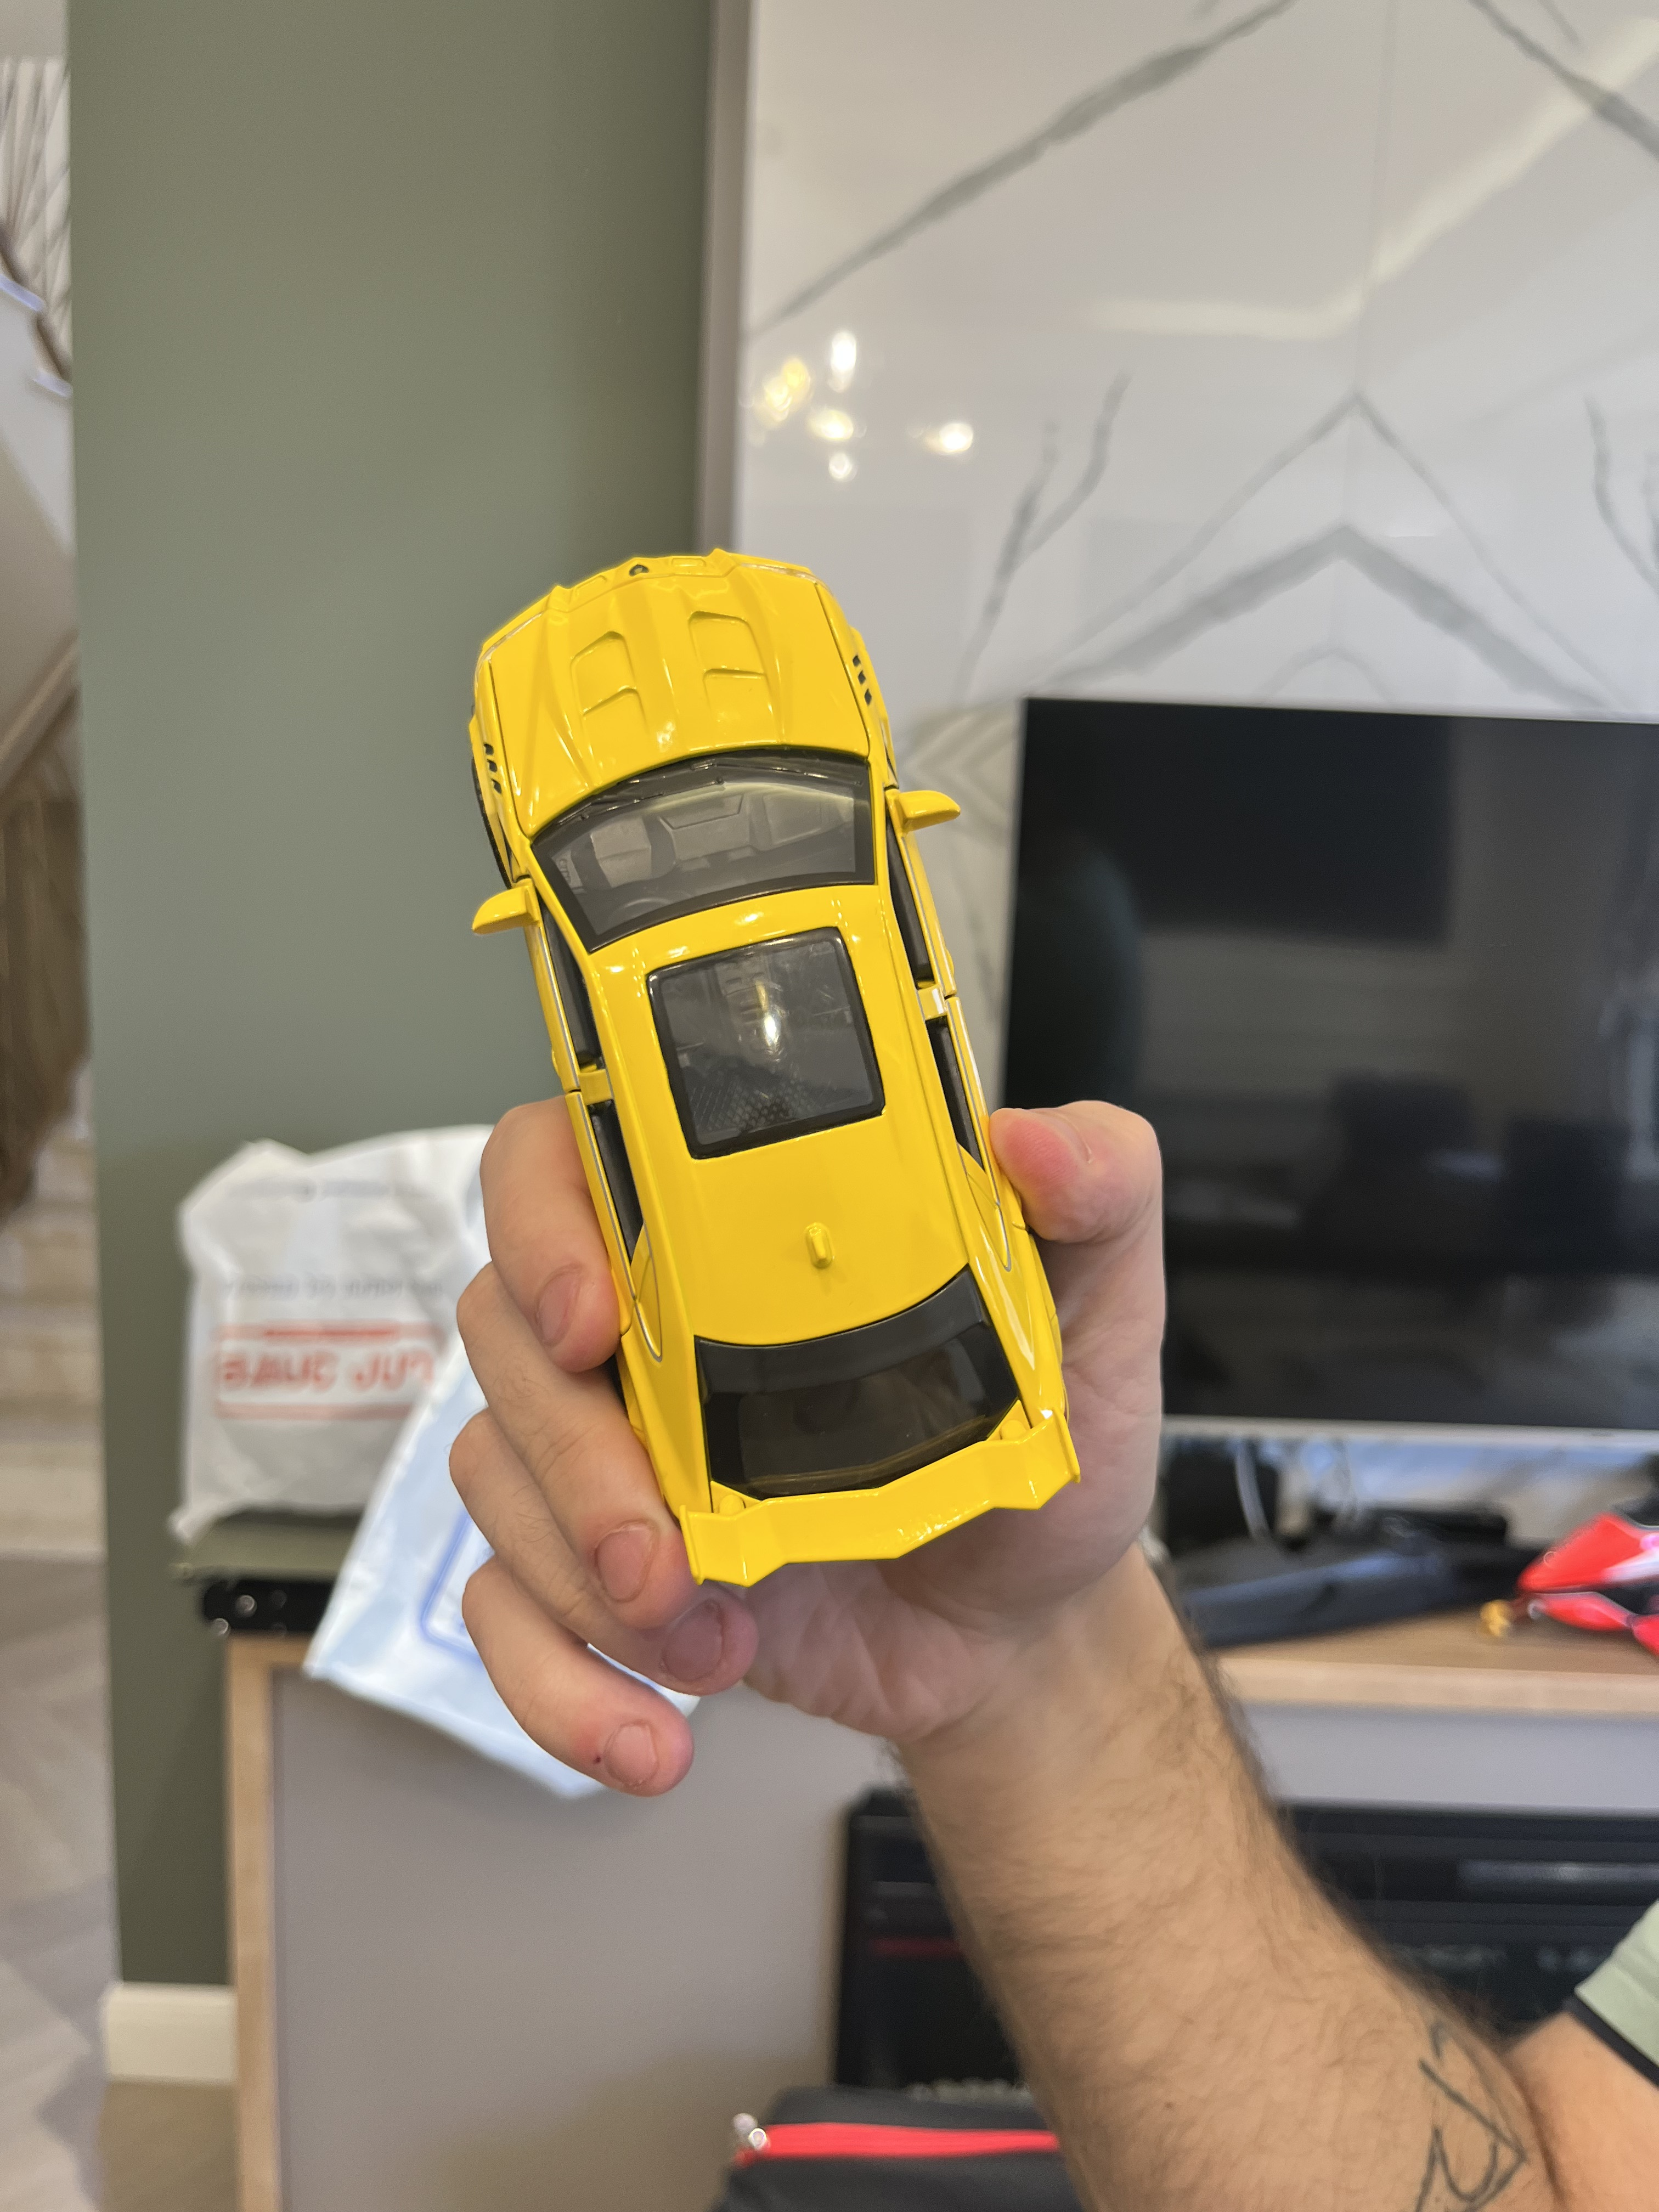lambo: (460, 547, 1086, 1590)
